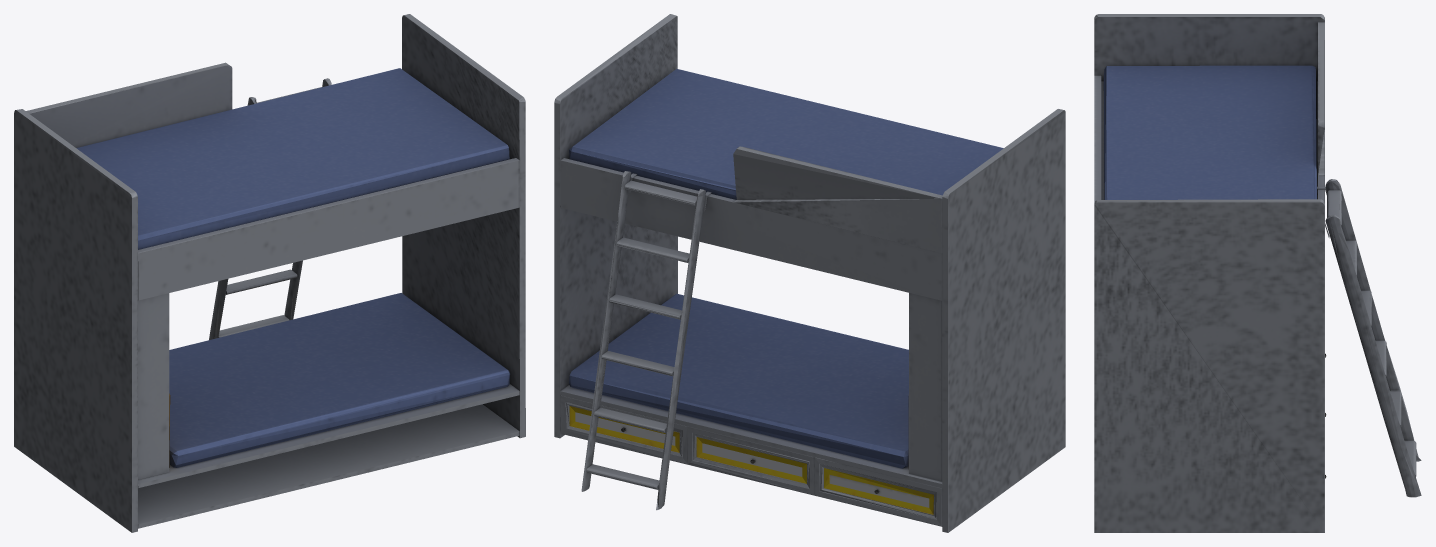
The model's file is Chair_04bb0dd5-b86a-42bf-93c9-b5710faa9e57_1.glb.
3 views of the same model, side by side, from view 1: azimuth 30°, elevation 25°; view 2: azimuth 150°, elevation 25°; view 3: azimuth 270°, elevation 25° (orthographic). The views are drawn at different scales.
Parts seen in each view (by area): view 1: Chair_04bb0dd5-b86a-42bf-93c9-b5710faa9e57_1.obj; view 2: Chair_04bb0dd5-b86a-42bf-93c9-b5710faa9e57_1.obj; view 3: Chair_04bb0dd5-b86a-42bf-93c9-b5710faa9e57_1.obj.
Part boxes in pixels (x1,y1,x2,y2): Chair_04bb0dd5-b86a-42bf-93c9-b5710faa9e57_1.obj: (14, 14, 525, 532); Chair_04bb0dd5-b86a-42bf-93c9-b5710faa9e57_1.obj: (554, 14, 1065, 532); Chair_04bb0dd5-b86a-42bf-93c9-b5710faa9e57_1.obj: (1094, 14, 1421, 532).
Bounding box in the file's own units: 1.28 × 1.05 × 0.9405.
Materials: 1 (1 with a texture image).
